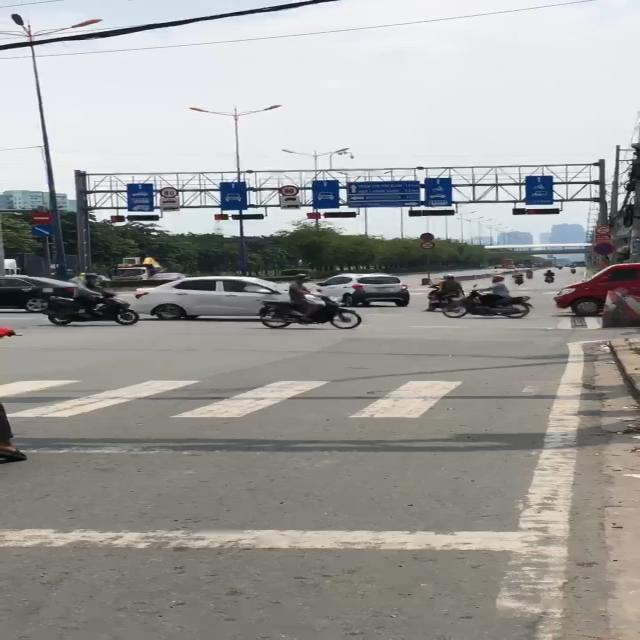Bien bao cam di nguoc chieu: (28, 210, 56, 224)
Bien bao huong phai di vong chuong ngai vat: (31, 224, 55, 238)
Bien bao toc do toi da cho phep: (278, 184, 299, 197), (157, 186, 179, 198)
